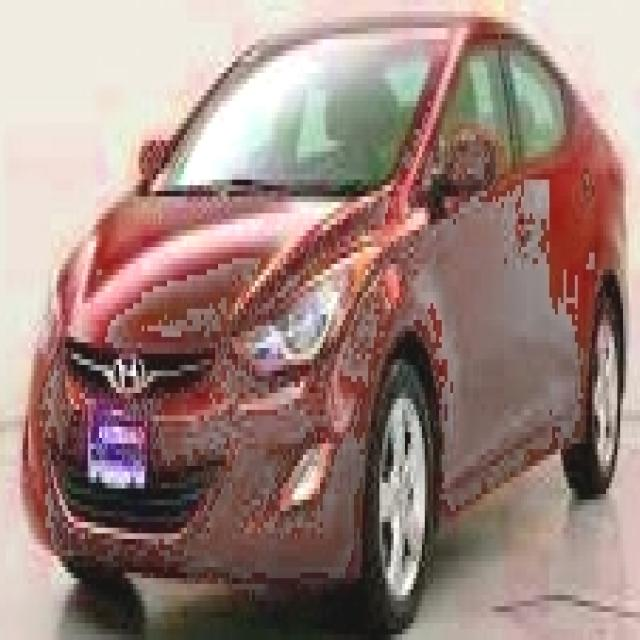maroon: (33, 17, 622, 617)
